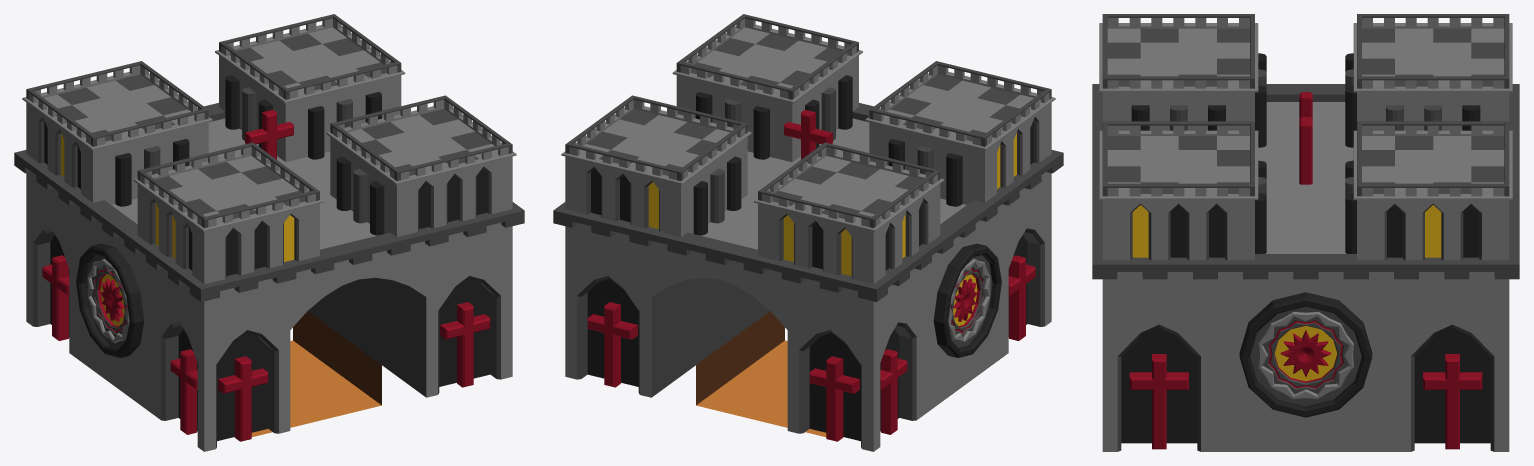
File: Path_2_Way_Target.fbx
3 views of the same model, side by side, from view 1: azimuth 30°, elevation 25°; view 2: azimuth 150°, elevation 25°; view 3: azimuth 270°, elevation 25° (orthographic). The views are drawn at different scales.
Parts seen in each view (by area): view 1: Path_2_Way_Target; view 2: Path_2_Way_Target; view 3: Path_2_Way_Target.
Part boxes in pixels (<box>): Path_2_Way_Target: <box>14,14,524,451</box>; Path_2_Way_Target: <box>553,14,1063,451</box>; Path_2_Way_Target: <box>1092,14,1519,451</box>.
Bounding box in the file's own units: 429 × 344 × 420.
